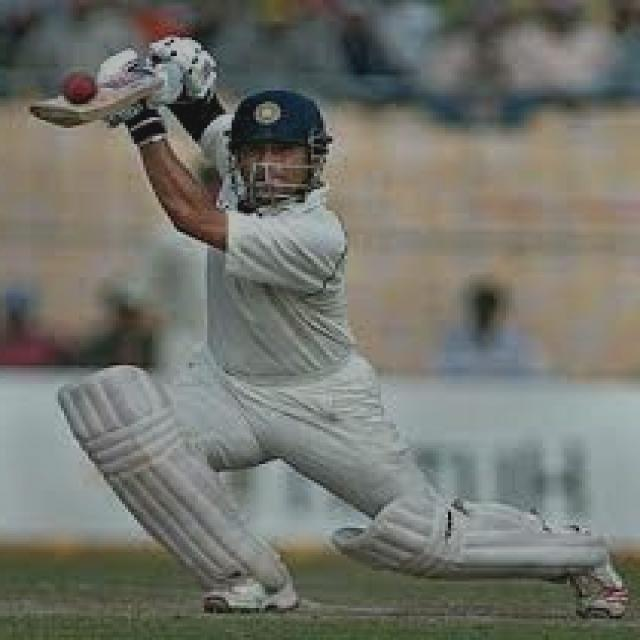bat: (21, 75, 161, 134)
toe: (30, 106, 93, 130)
